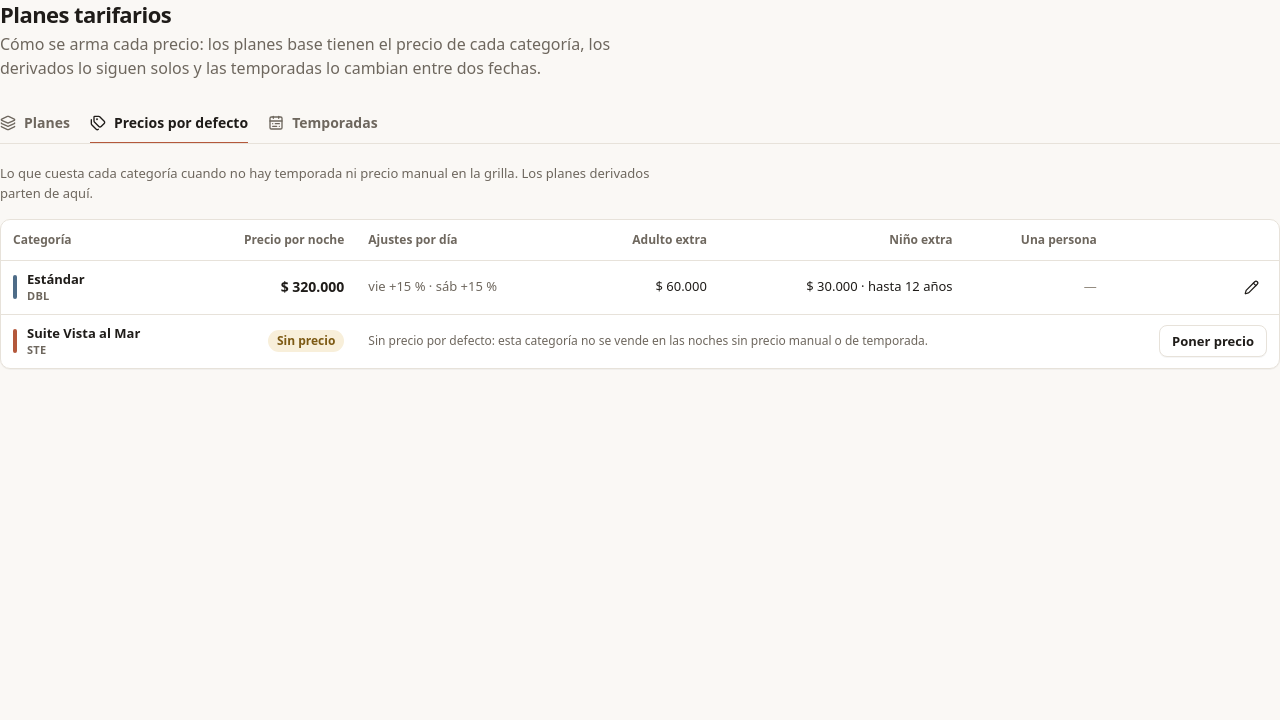
default prices of the categories › rejects weekday adjustments that are not percentages
Click the button named "Editar precio de Estándar".
click(1251, 287)  # box 1235,271 -> 1267,303
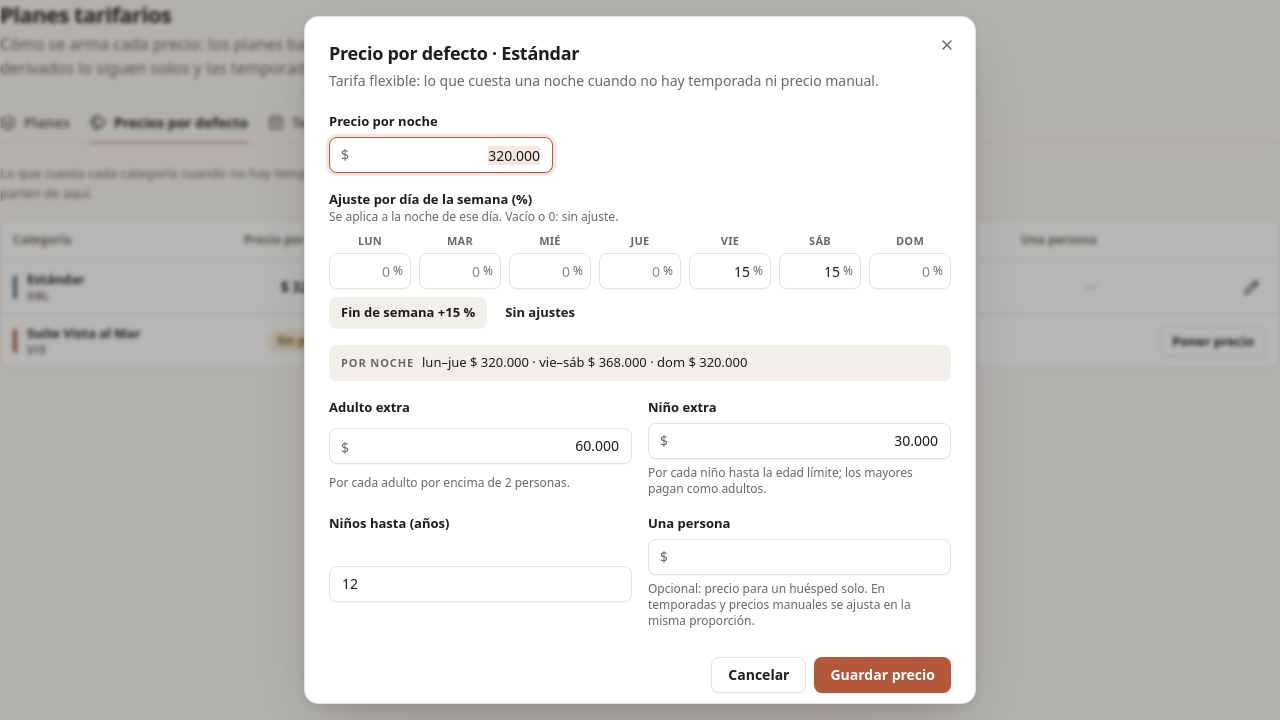
Type "-150" into the field named "Lunes".
click(370, 271); type("-150")  # box 329,253 -> 411,289
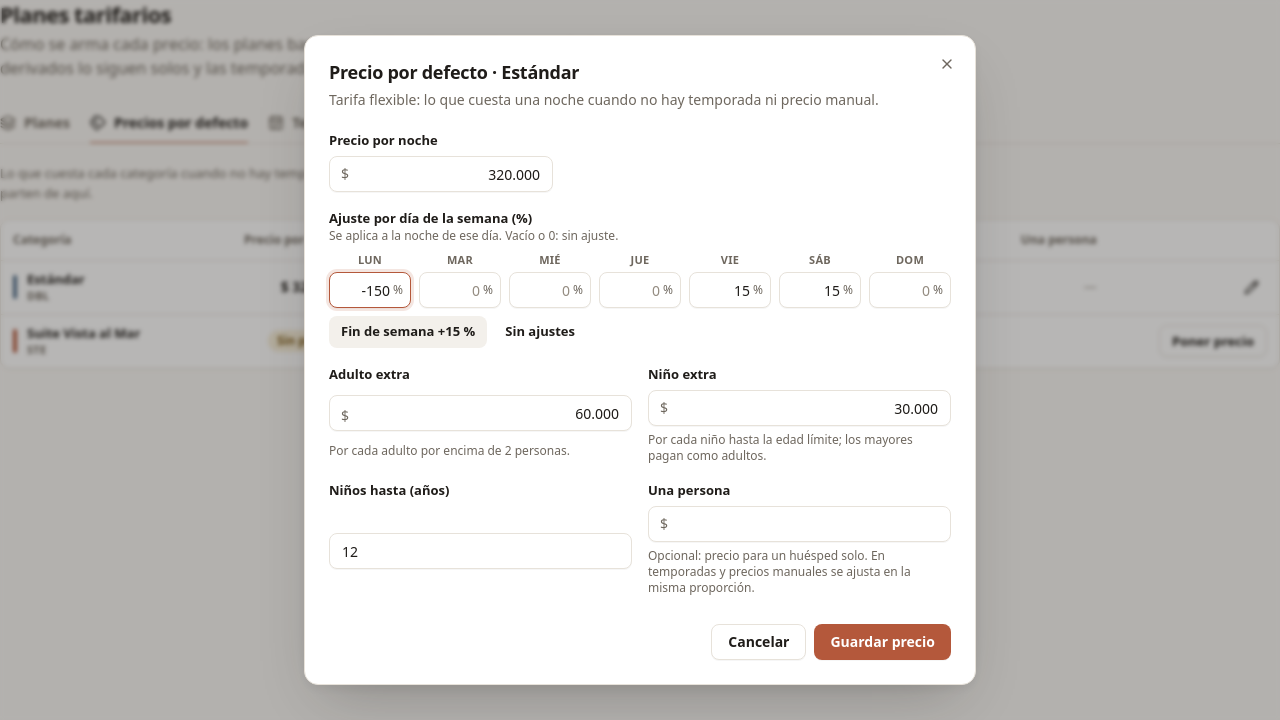
Click the button "Guardar precio".
click(883, 642)  # box 814,624 -> 951,660
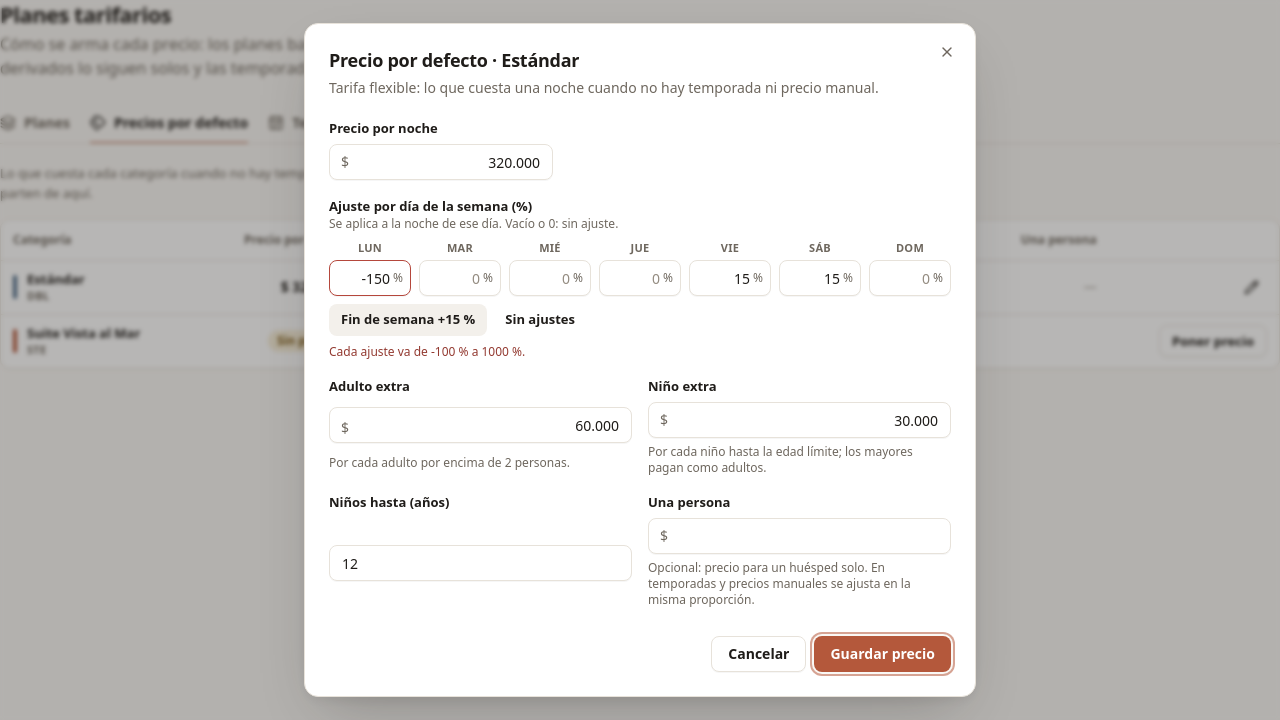
Expected: the text "Cada ajuste va de -100 % a 1000 %." is shown, 329,343 -> 525,360
